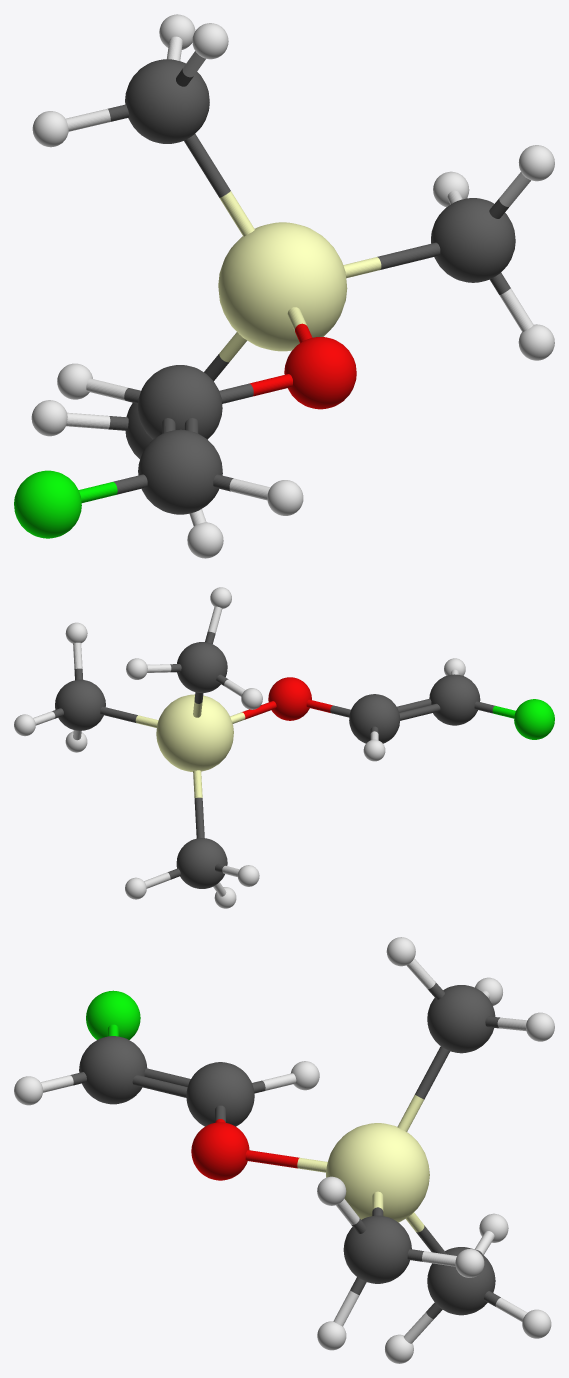
File: E-2-fluorovinyloxytrimethylsilane.fbx
The picture shows the model from 3 angles, top to bottom: view 1: azimuth 30°, elevation 25°; view 2: azimuth 150°, elevation 25°; view 3: azimuth 270°, elevation 25°; orthographic projection. The views are drawn at different scales.
Visible parts, largest first — view 1: Si06, C01, C16, C12, C03, O05, F07, Si06-C12, Si06-C16, H13, H02, H09 (+17 smaller); view 2: Si06, C16, C12, C01, C08, C03, O05, F07, Si06-C08, C01=C03, Si06-C16, O05-Si06; view 3: Si06, C12, C16, C01, C03, C08, O05, F07, Si06-C12, C01=C03, O05-Si06, H10 (+15 smaller).
Part boxes in pixels (x1=…): Si06: x1=218, y1=222, x2=347, y2=351; C01: x1=138, y1=429, x2=222, y2=514; C16: x1=431, y1=198, x2=515, y2=282; C12: x1=125, y1=59, x2=209, y2=143; C03: x1=137, y1=365, x2=222, y2=439; O05: x1=284, y1=337, x2=356, y2=409; F07: x1=14, y1=470, x2=81, y2=538; Si06-C12: x1=184, y1=134, x2=254, y2=236; Si06-C16: x1=343, y1=242, x2=440, y2=278; H13: x1=192, y1=23, x2=228, y2=59; H02: x1=267, y1=480, x2=303, y2=515; H09: x1=31, y1=400, x2=67, y2=436; Si06: x1=156, y1=694, x2=233, y2=771; C16: x1=55, y1=679, x2=105, y2=730; C12: x1=177, y1=642, x2=227, y2=692; C01: x1=429, y1=674, x2=480, y2=725; C08: x1=176, y1=838, x2=227, y2=888; C03: x1=349, y1=694, x2=400, y2=743; O05: x1=268, y1=677, x2=311, y2=720; F07: x1=514, y1=699, x2=554, y2=739; Si06-C08: x1=193, y1=770, x2=204, y2=838; C01=C03: x1=397, y1=698, x2=440, y2=720; Si06-C16: x1=100, y1=706, x2=158, y2=727; O05-Si06: x1=230, y1=701, x2=276, y2=723; Si06: x1=326, y1=1123, x2=429, y2=1222; C12: x1=427, y1=985, x2=495, y2=1053; C16: x1=343, y1=1215, x2=411, y2=1283; C01: x1=79, y1=1036, x2=147, y2=1104; C03: x1=186, y1=1062, x2=254, y2=1126; C08: x1=427, y1=1247, x2=495, y2=1315; O05: x1=191, y1=1122, x2=249, y2=1180; F07: x1=86, y1=990, x2=140, y2=1039; Si06-C12: x1=397, y1=1046, x2=449, y2=1131; C01=C03: x1=132, y1=1068, x2=190, y2=1097; O05-Si06: x1=245, y1=1150, x2=327, y2=1172; H10: x1=522, y1=1309, x2=551, y2=1338.
Size of the model in its own units: 682 by 516 by 593.
